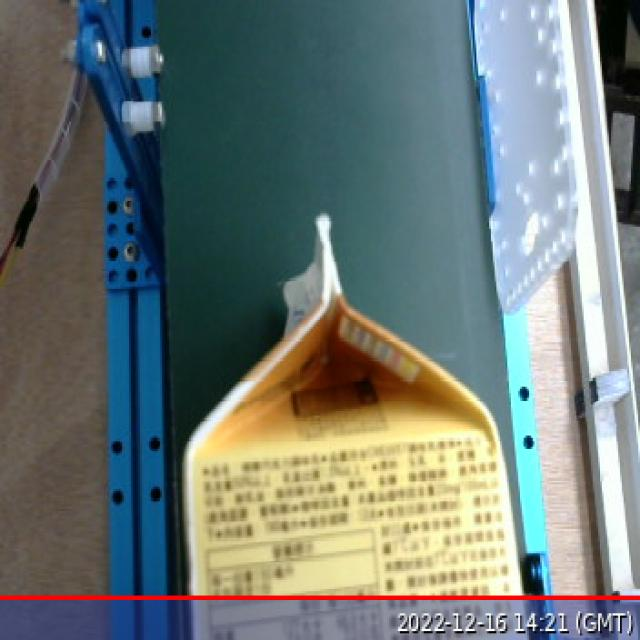non_white_jug: (126, 190, 543, 640)
